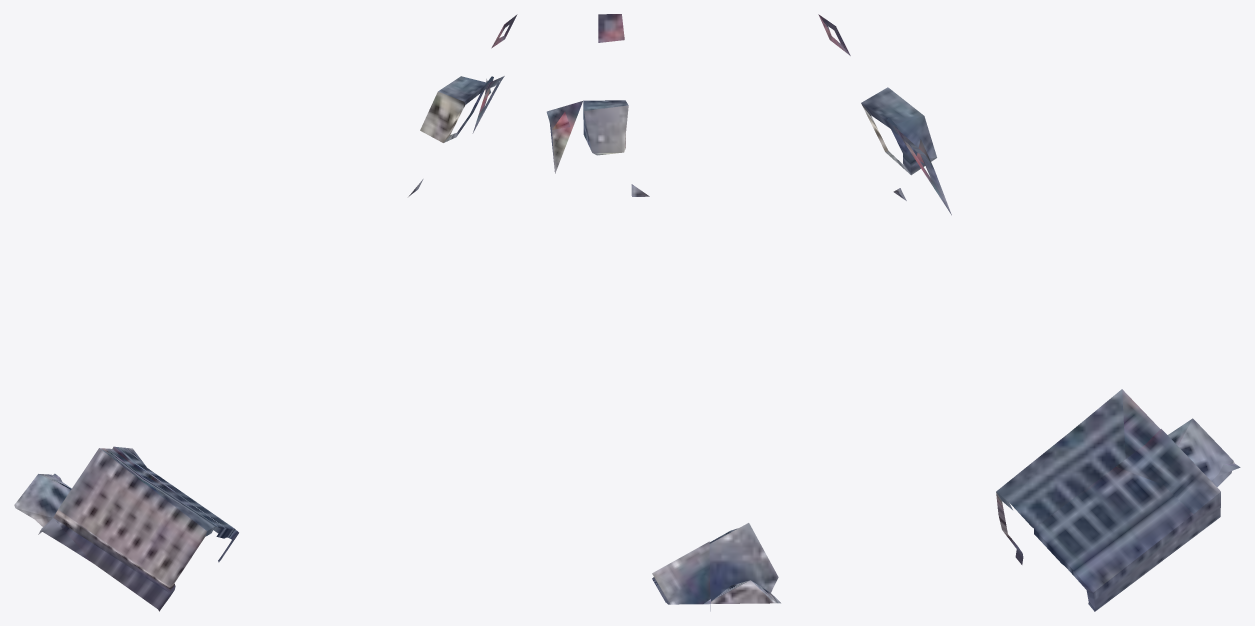
The picture shows the model from 3 angles, left to right: view 1: azimuth 30°, elevation 25°; view 2: azimuth 150°, elevation 25°; view 3: azimuth 270°, elevation 25°; orthographic projection. The views are drawn at different scales.
Size of the model in its own units: 86.66 by 127 by 68.97.
Materials: 1 (1 with a texture image).
